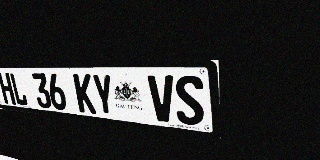3: (31, 73, 52, 109)
6: (46, 73, 68, 111)
H: (0, 73, 16, 105)
K: (73, 74, 97, 114)
L: (9, 73, 28, 106)
S: (174, 75, 205, 126)
V: (147, 75, 176, 123)
Y: (91, 74, 116, 116)
